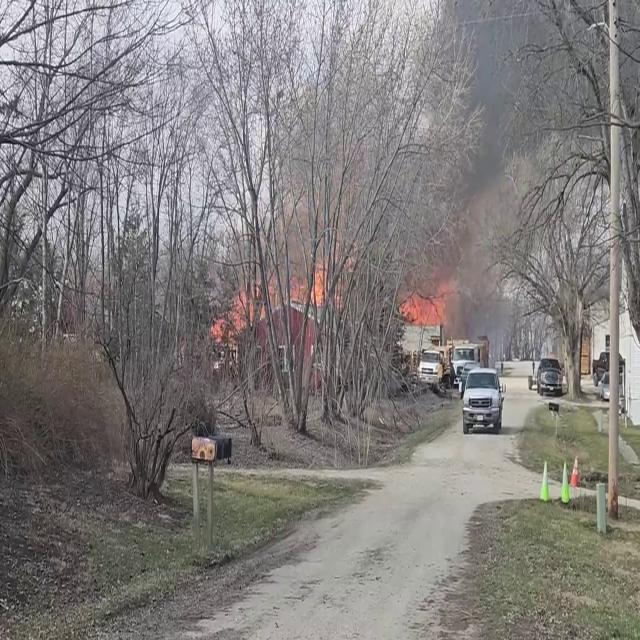Fire: (396, 288, 456, 340), (302, 249, 334, 304)
Smoke: (428, 0, 559, 321)
